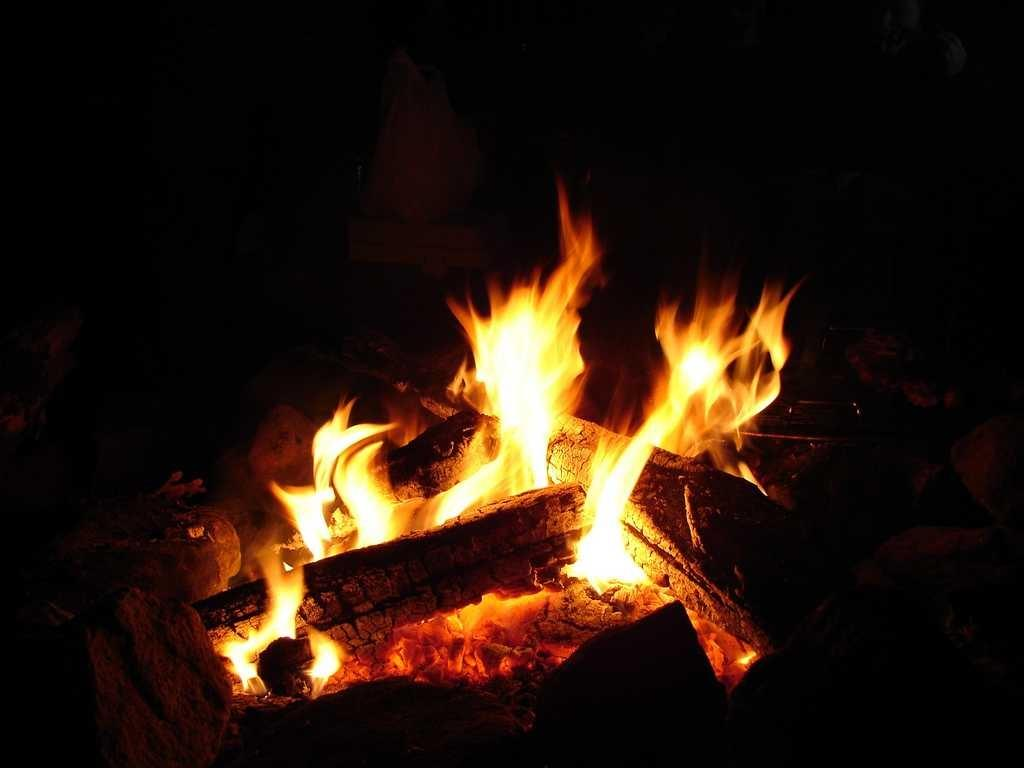fire: (480, 306, 562, 478), (288, 432, 384, 542), (670, 320, 752, 430), (594, 466, 634, 582)
